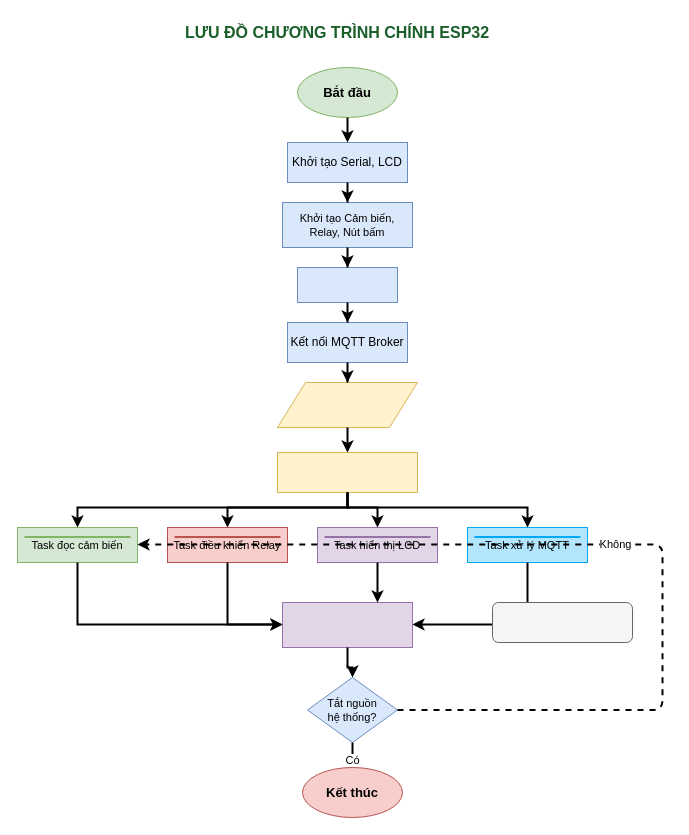
This 689x835 diagram has some shape labels left out. The shapes that lost their labels are listed below. From the top down, each one's centre as x and y in pixels, then its label:
At (347,284): "Kết nối WiFi".
At (347,405): "Tải cấu hình từ NVS".
At (347,472): "Tạo các Task FreeRTOS".
At (347,625): "Vòng lặp chính (FreeRTOS Scheduler)".
At (562,622): "Các Task chạy song song do FreeRTOS quản lý".
